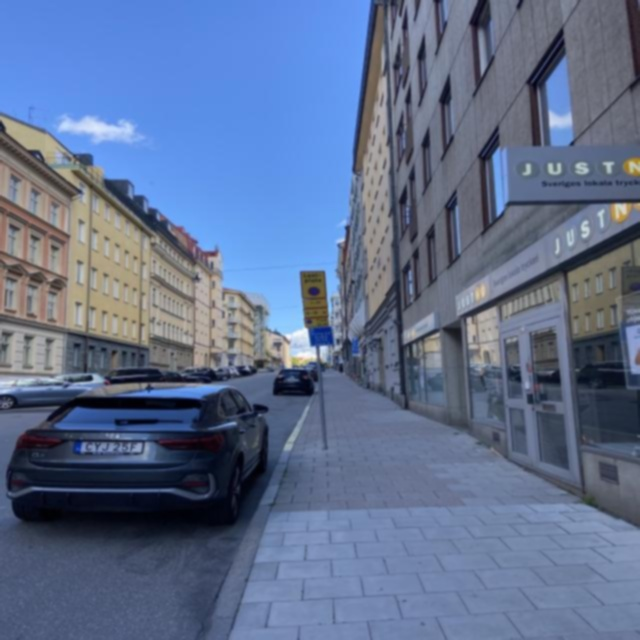lastplats: (300, 270, 327, 298)
